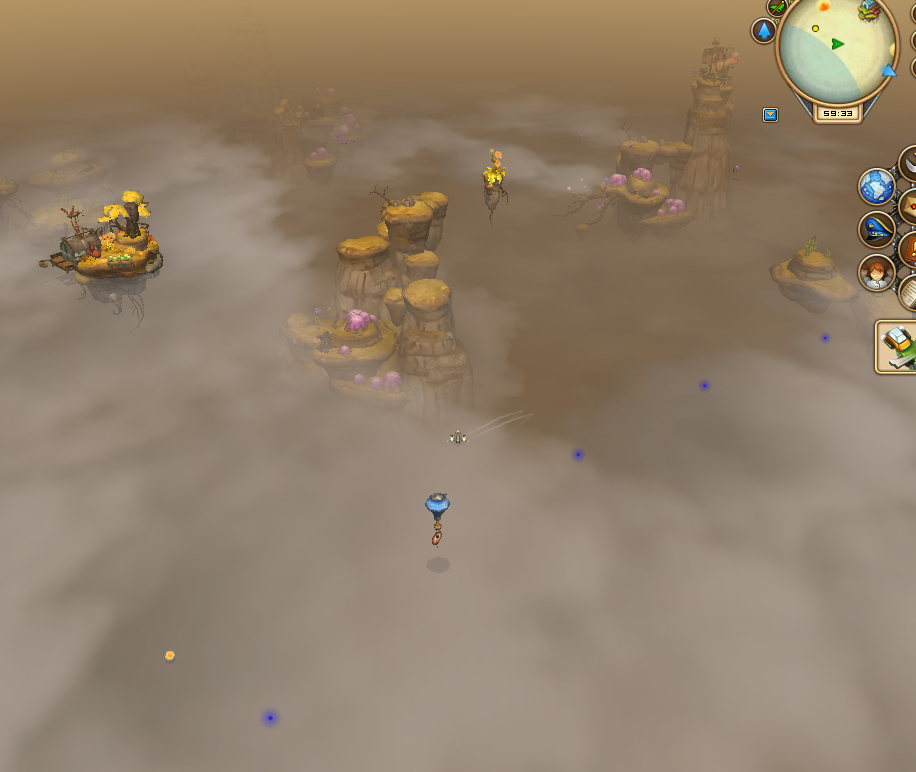dandelion-full: (475, 143, 514, 219)
fluff: (160, 644, 179, 667)
